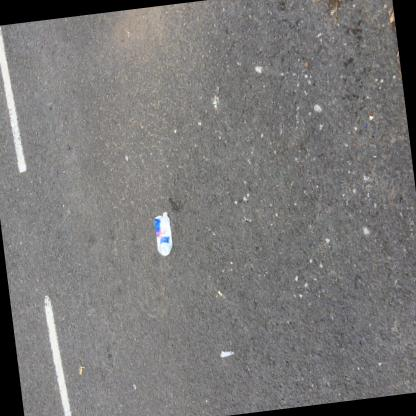Metal: (154, 210, 172, 255)
Waste: (220, 349, 234, 356)
